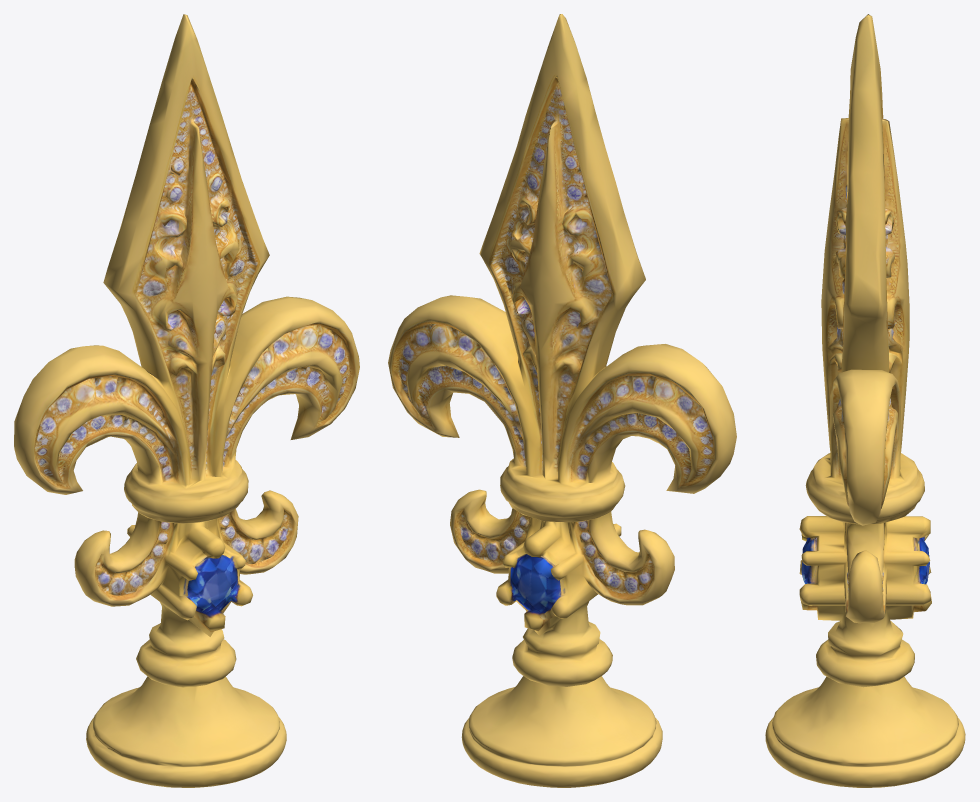
The model's file is EtherVessel_Pointer.glb.
3 views of the same model, side by side, from view 1: azimuth 30°, elevation 25°; view 2: azimuth 150°, elevation 25°; view 3: azimuth 270°, elevation 25° (orthographic).
Parts seen in each view (by area): view 1: tripo_node_73dee739-8b44-4e4d-abf9-a1b9981cf24c; view 2: tripo_node_73dee739-8b44-4e4d-abf9-a1b9981cf24c; view 3: tripo_node_73dee739-8b44-4e4d-abf9-a1b9981cf24c.
Part boxes in pixels (x1=…): tripo_node_73dee739-8b44-4e4d-abf9-a1b9981cf24c: x1=14, y1=14, x2=359, y2=787; tripo_node_73dee739-8b44-4e4d-abf9-a1b9981cf24c: x1=388, y1=14, x2=736, y2=787; tripo_node_73dee739-8b44-4e4d-abf9-a1b9981cf24c: x1=765, y1=14, x2=965, y2=787.
Size of the model in its own units: 0.4727 by 0.9841 by 0.2431.
1 material, 1 textured.
